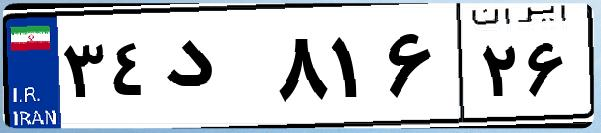1: (330, 28, 385, 110)
2: (475, 38, 525, 113)
3: (57, 26, 110, 100)
4: (110, 28, 158, 98)
6: (385, 28, 445, 110), (525, 38, 570, 115)
8: (270, 28, 330, 110)
د: (158, 20, 270, 120)
